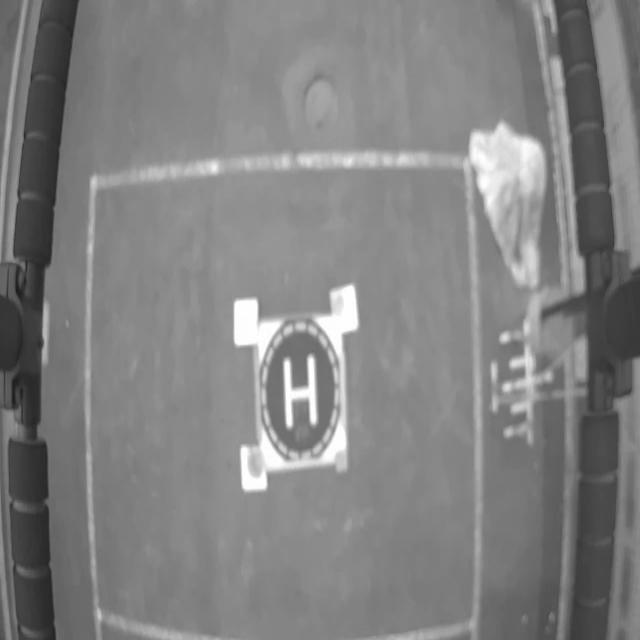Helipad: (282, 355, 320, 432)
